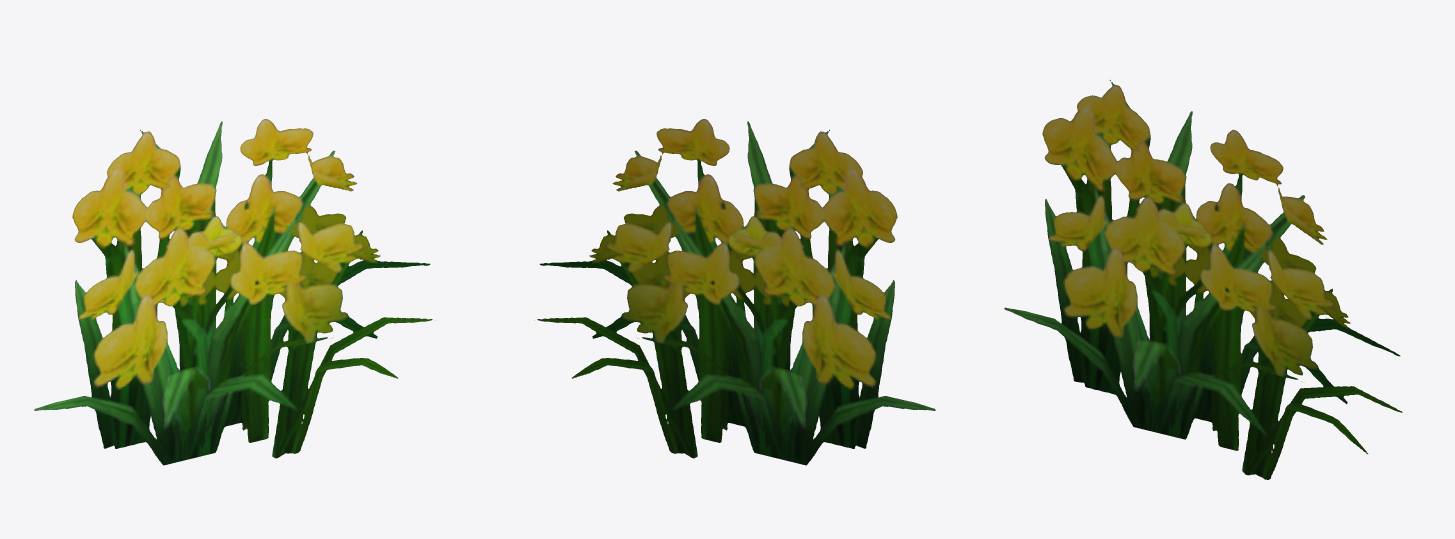
3 views of the same model, side by side, from view 1: azimuth 30°, elevation 25°; view 2: azimuth 150°, elevation 25°; view 3: azimuth 330°, elevation 25° (orthographic).
Visible parts, largest first — view 1: 草丛003; view 2: 草丛003; view 3: 草丛003.
Part boxes in pixels (box(x1,y1,x2,y2)): 草丛003: box(34, 119, 435, 465); 草丛003: box(534, 119, 935, 465); 草丛003: box(1004, 80, 1402, 479).
Bounding box in the file's own units: 128 × 108 × 1.49e-05.
Materials: 1 (1 with a texture image).
